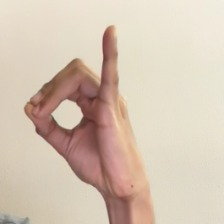D: (19, 10, 154, 200)
